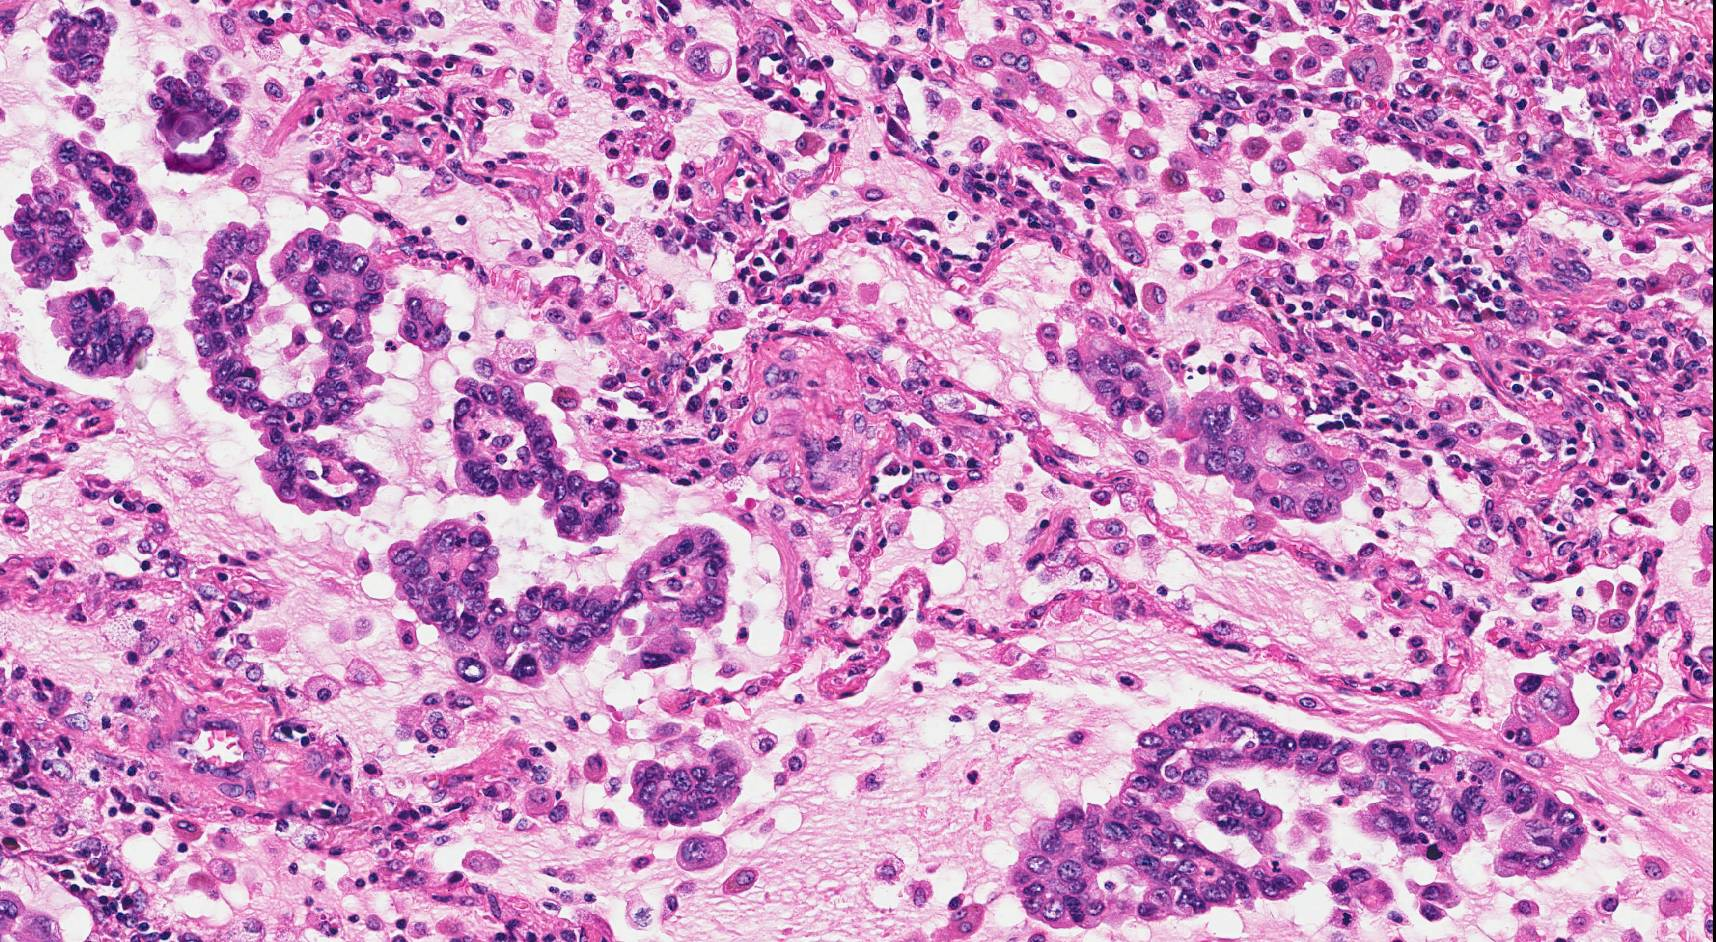stas: (1012, 700, 1597, 931), (185, 223, 391, 520), (1069, 332, 1364, 525), (390, 517, 730, 685), (450, 377, 627, 545), (45, 135, 163, 246), (632, 743, 763, 834), (45, 288, 165, 385), (5, 166, 93, 294), (142, 68, 241, 174), (1495, 669, 1585, 750), (39, 10, 123, 89), (399, 289, 450, 354)
